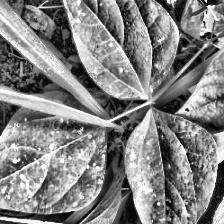Bean Rust: (0, 98, 107, 216), (50, 0, 168, 93), (121, 108, 214, 224)
